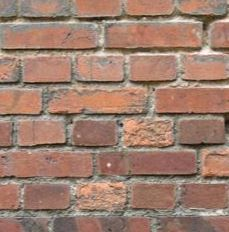brick: (102, 19, 205, 51), (1, 21, 101, 52), (96, 149, 199, 178), (48, 86, 150, 115), (1, 151, 94, 179), (155, 86, 229, 113), (73, 53, 126, 84), (21, 54, 72, 84), (127, 53, 178, 83), (180, 51, 229, 82), (17, 118, 67, 147), (178, 115, 225, 144), (181, 182, 229, 210), (78, 181, 124, 210), (130, 181, 176, 210), (23, 182, 72, 209), (125, 118, 173, 145), (1, 88, 44, 117), (72, 120, 117, 146), (21, 1, 73, 19), (75, 1, 124, 19), (126, 1, 175, 17), (202, 150, 229, 173)
